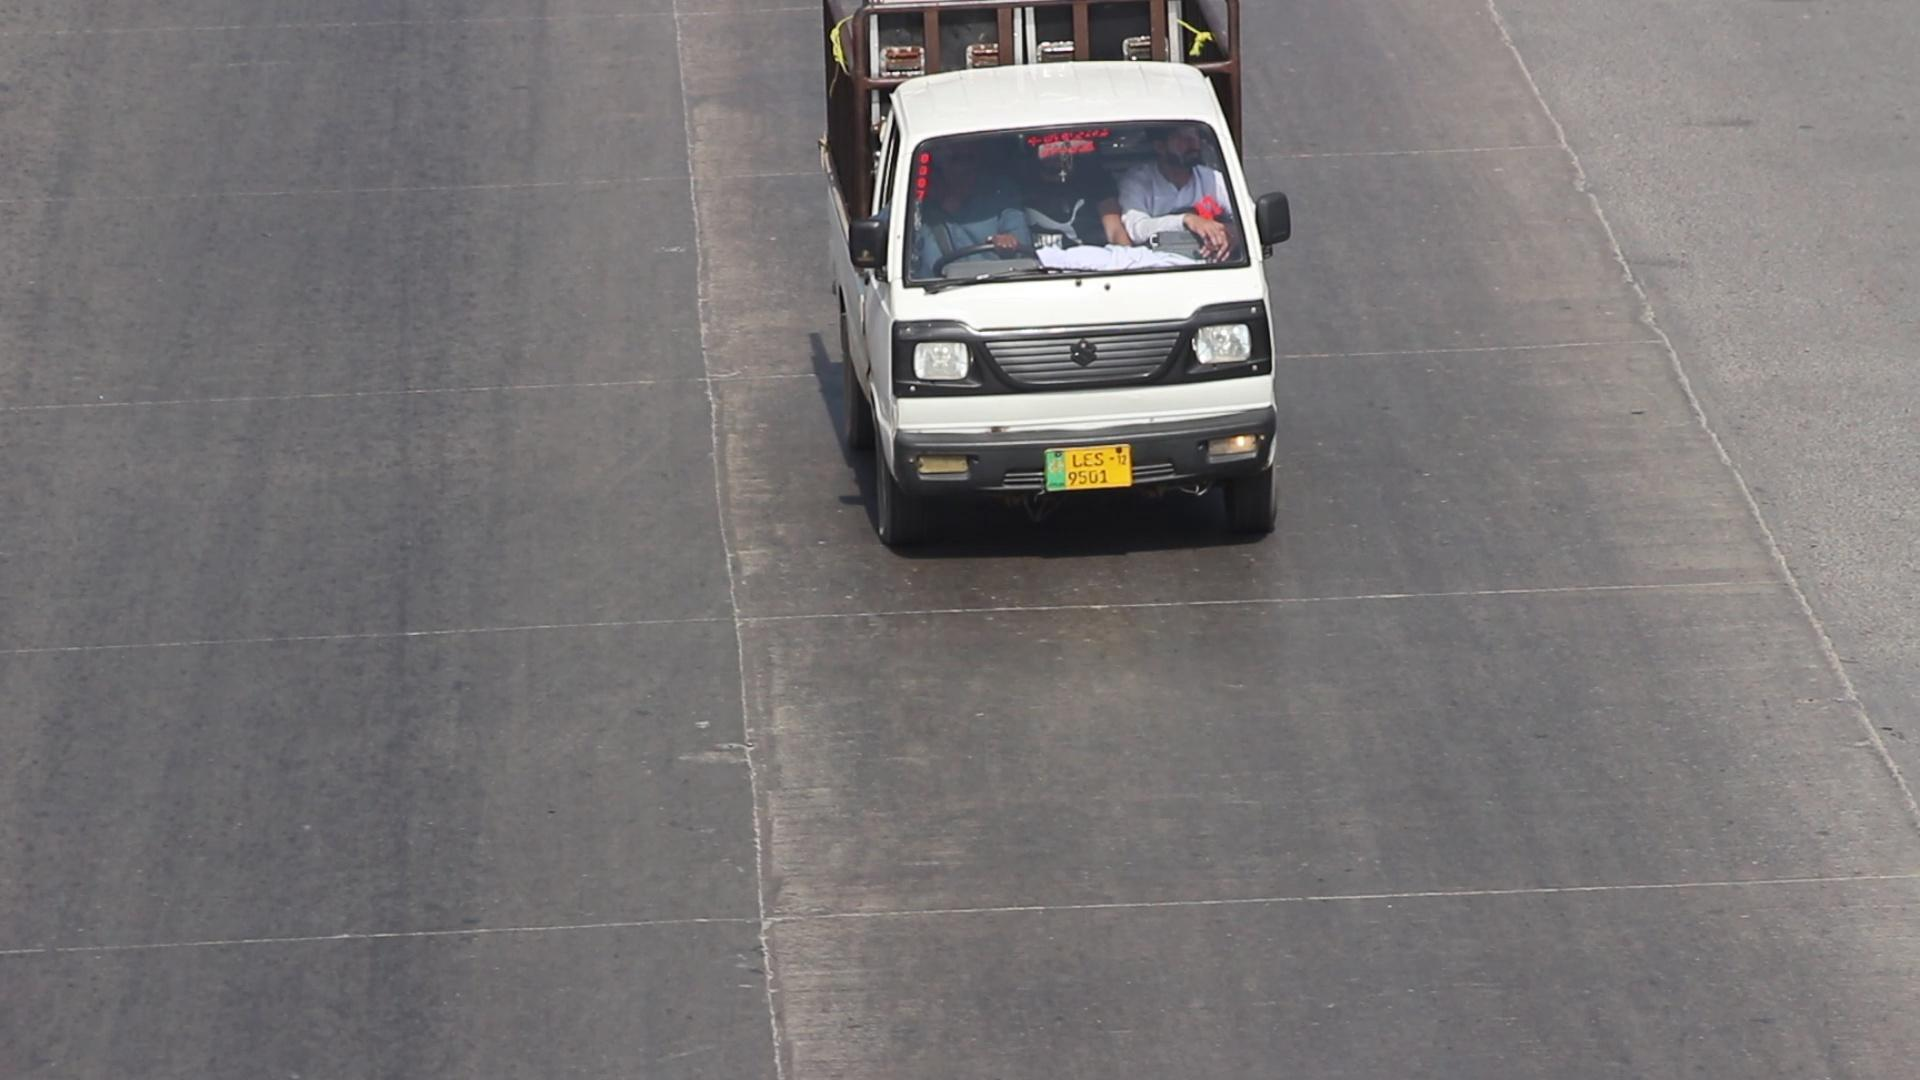windshield: (890, 113, 1267, 307)
